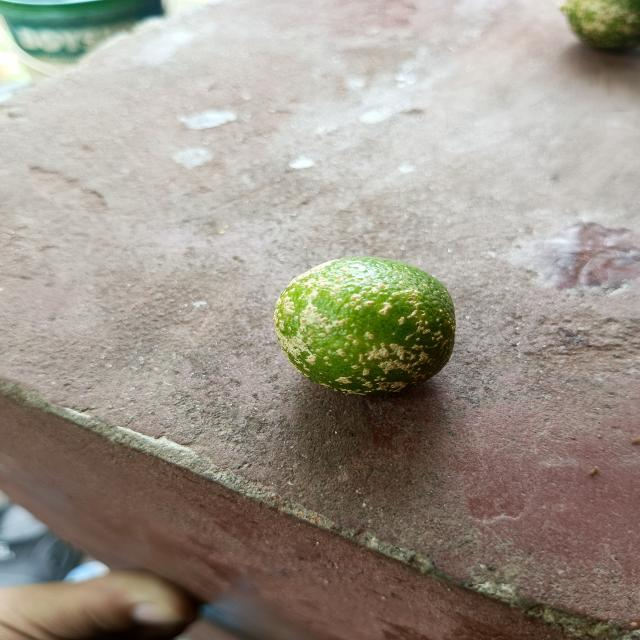scab: (249, 244, 472, 404)
